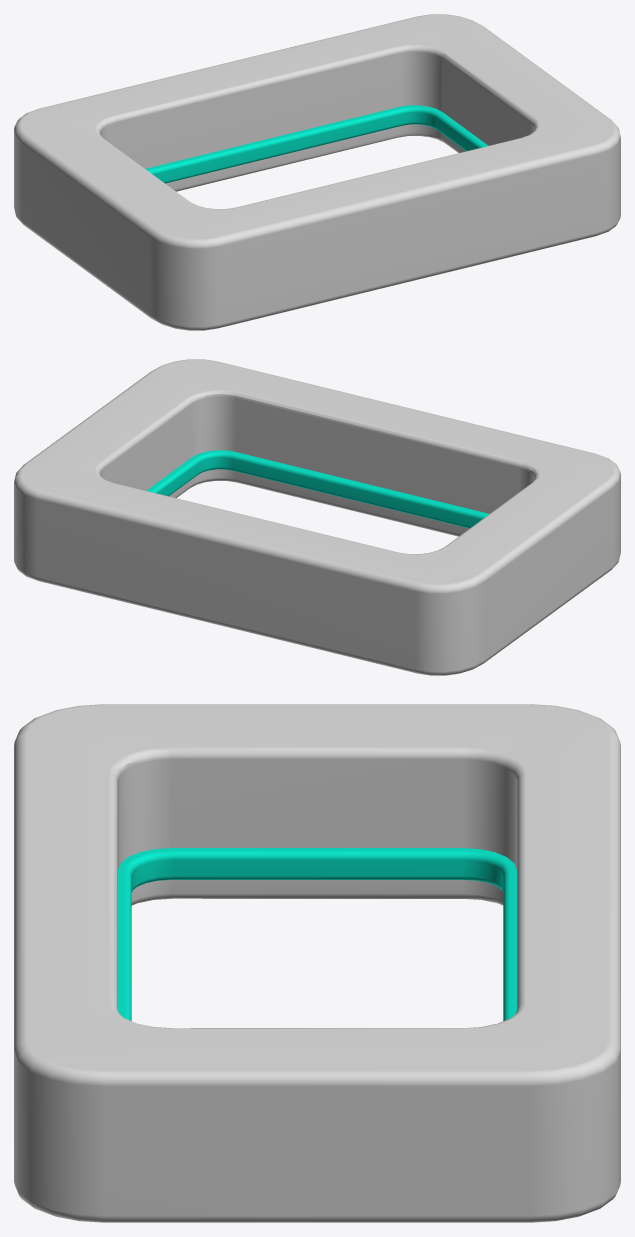
Rendered from flashScreen_portal.fbx.
The picture shows the model from 3 angles, top to bottom: view 1: azimuth 30°, elevation 25°; view 2: azimuth 150°, elevation 25°; view 3: azimuth 270°, elevation 25°; orthographic projection. The views are drawn at different scales.
Visible parts, largest first — view 1: pCube5; view 2: pCube5; view 3: pCube5.
Part boxes in pixels (box(x1,y1,x2,y2)): pCube5: box(14, 14, 620, 330); pCube5: box(14, 359, 620, 675); pCube5: box(14, 704, 620, 1222).
Size of the model in its own units: 16 by 3 by 10.93.
